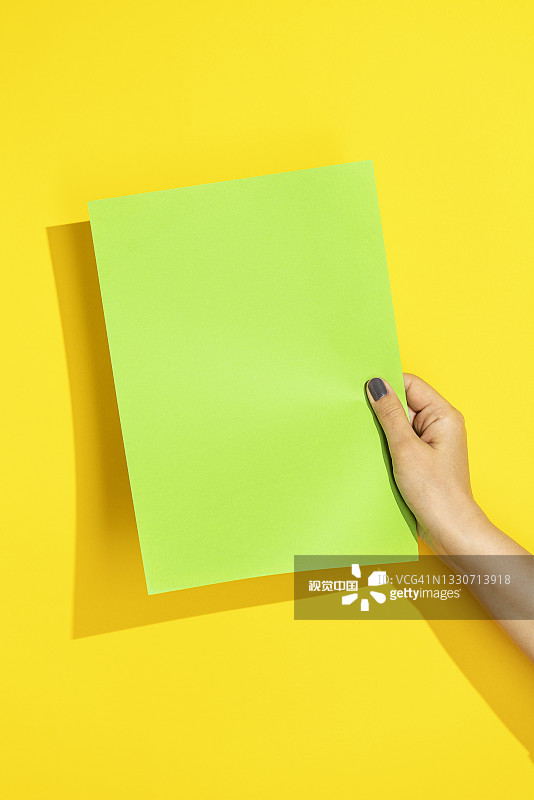no-phone: (347, 352, 492, 552)
